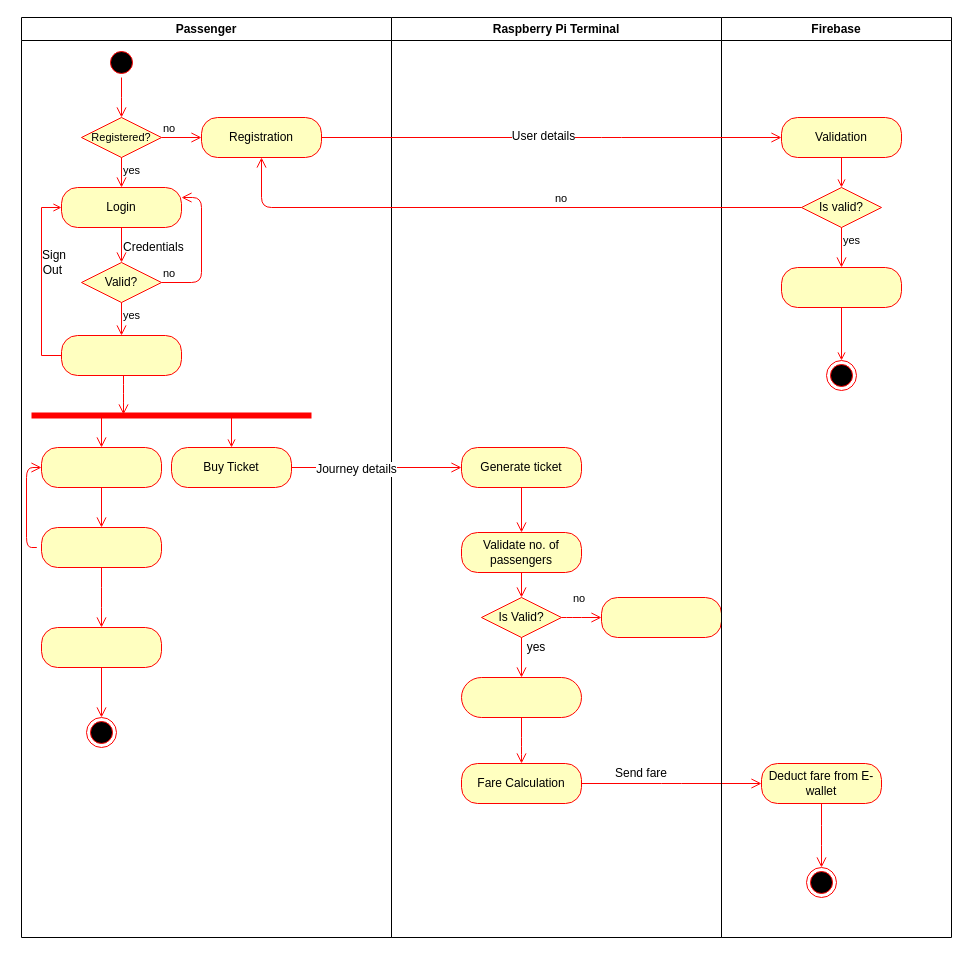
This 969x955 diagram has some shape labels left out. The centre of each missing label's shape, as x and y in pixels:
Add balance to E-wallet: (x=101, y=647)
Payment: (x=101, y=467)
Process payment at gateway: (x=101, y=547)
ProfileActivity: (x=121, y=355)
Register User: (x=841, y=287)
Rings Buzzer: (x=661, y=617)
Store details to firebase: (x=521, y=697)
